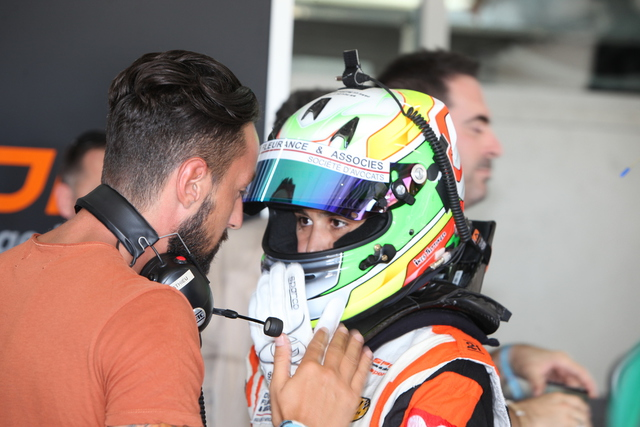helmet: (262, 80, 471, 304)
